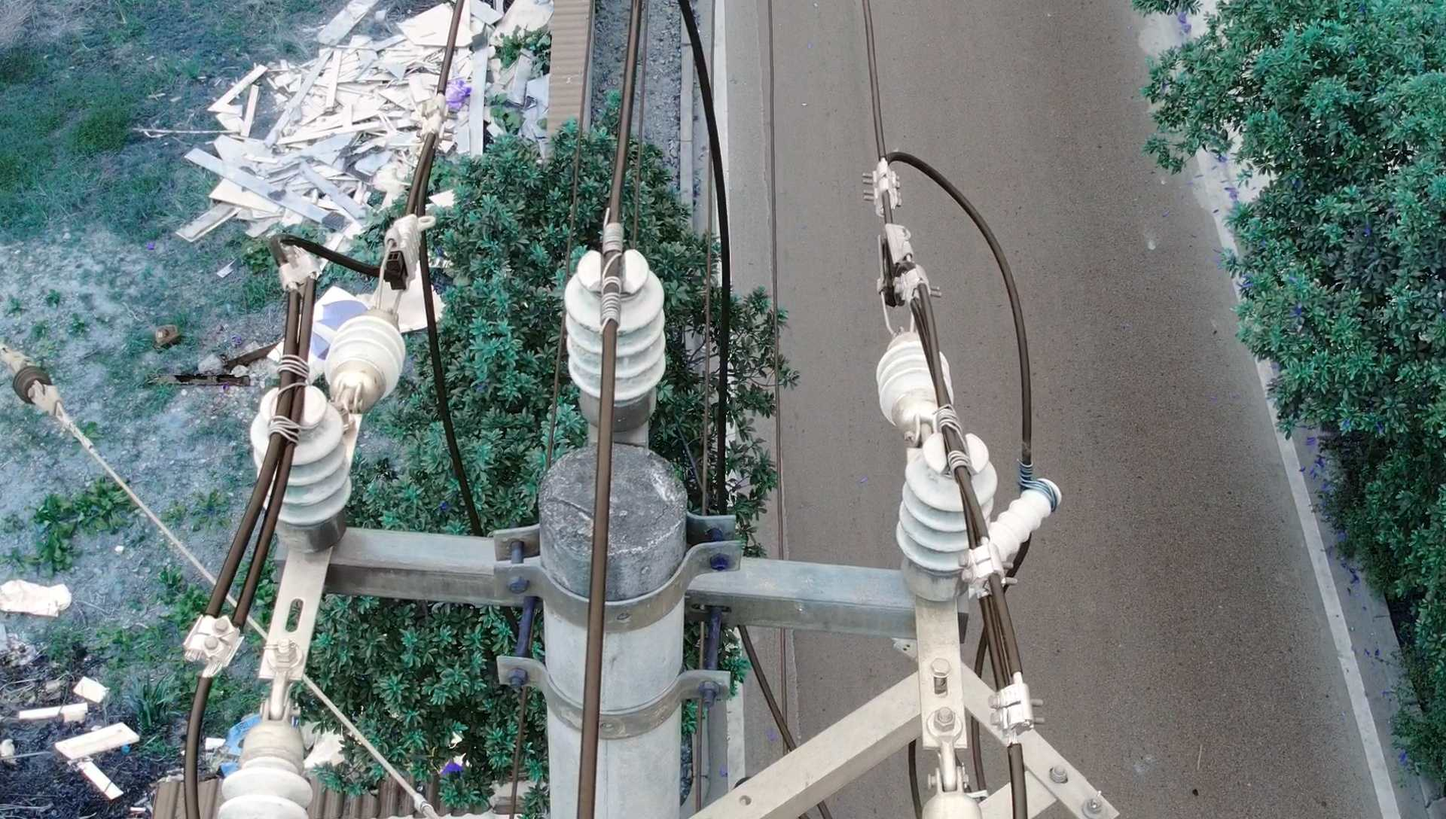severe_soiling_no_discharge_whole: (556, 237, 673, 437), (243, 376, 358, 561), (889, 424, 1002, 607)
